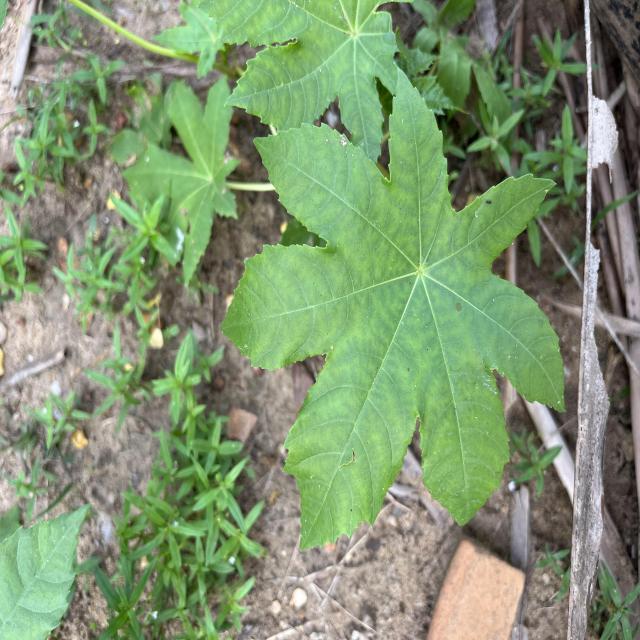Ricinus communis linn: (215, 61, 569, 558)
